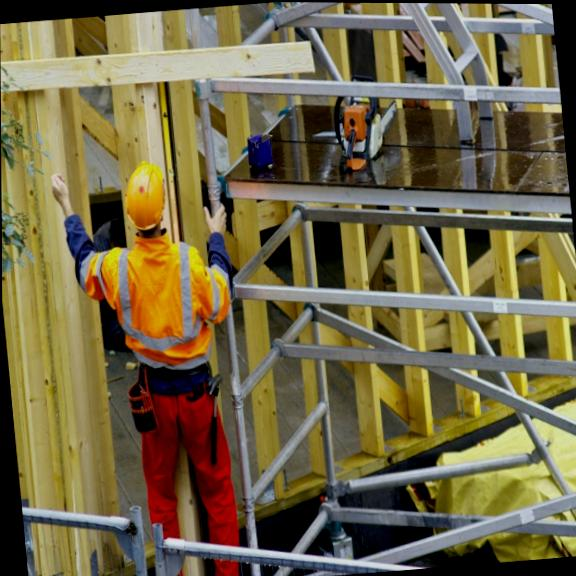safety_vest: (83, 228, 236, 375)
